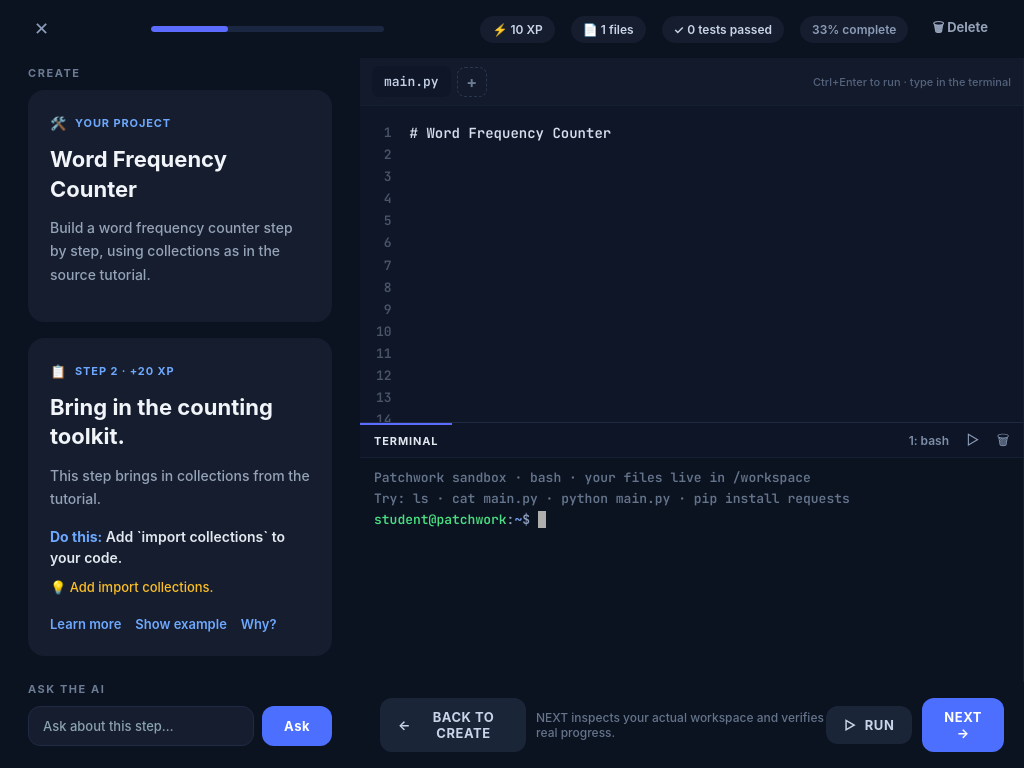
Test: ProjectWorkspace › renders the persistent workspace with milestones, editor and NEXT
Expected: the heading "Word Frequency Counter" is shown, [50,146,227,202]
Expected: the text "Do this: Add `import collections` to your code." is shown, [50,526,310,568]
Click the button "Learn more" at (86, 624), box [50,612,121,636]
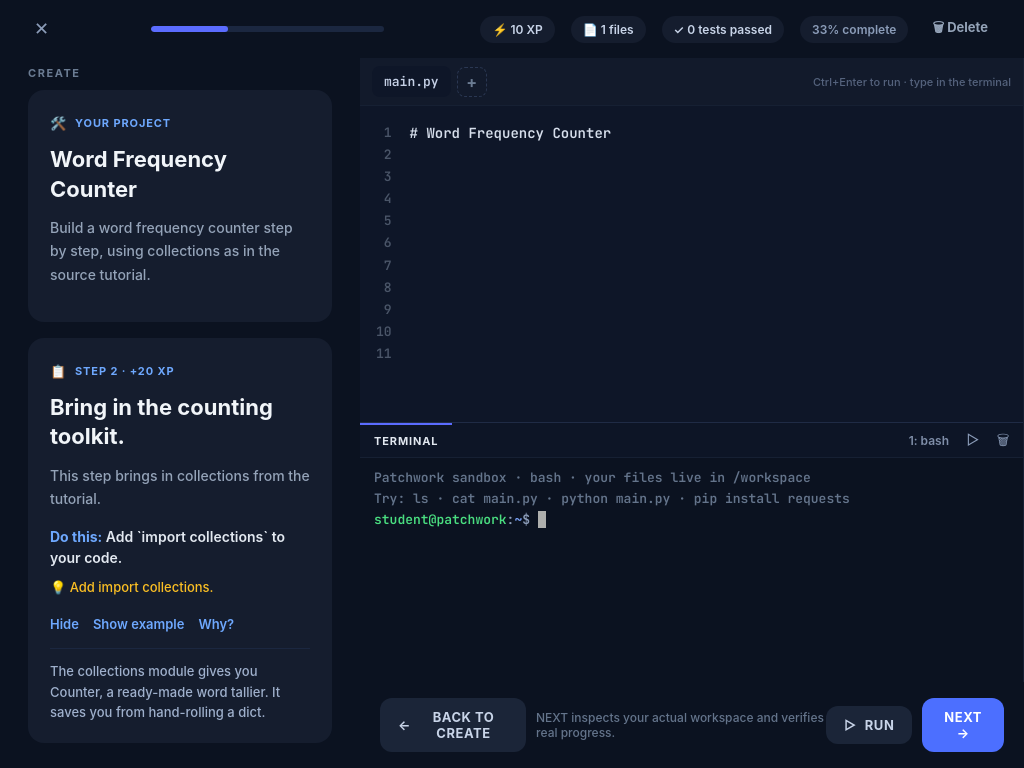
Expected: the text "33% complete" is shown, [800,16,908,42]
Now the text "ready-made word tallier" is shown, box [50,663,280,720]
